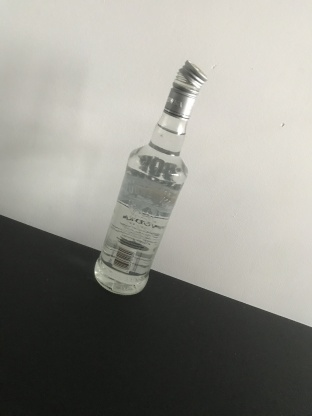nakretka: (161, 57, 209, 124)
